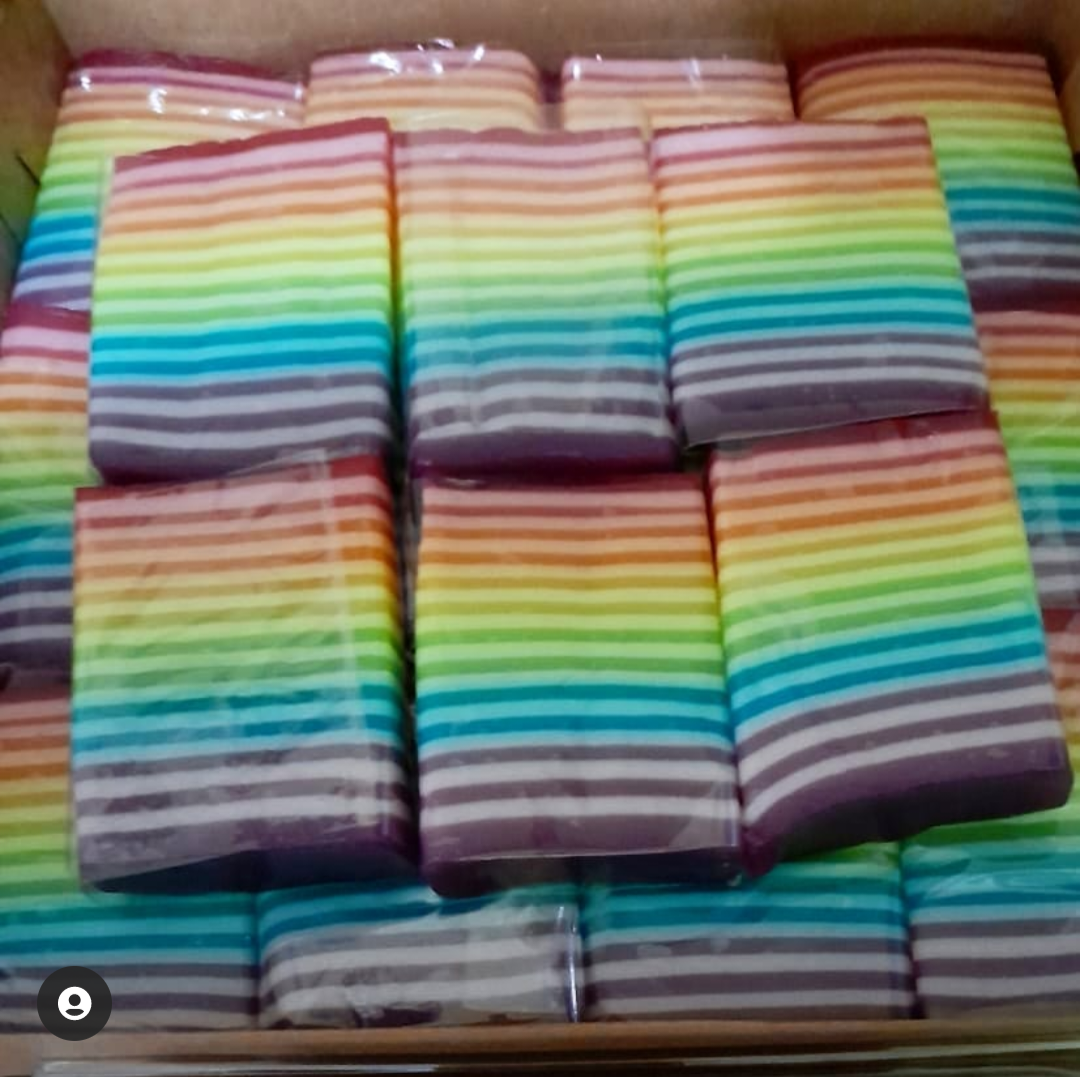kue_lapis_pelangi: (714, 416, 1076, 869), (64, 464, 408, 893), (410, 461, 742, 902), (99, 112, 402, 464), (648, 114, 996, 413), (392, 127, 688, 468)
